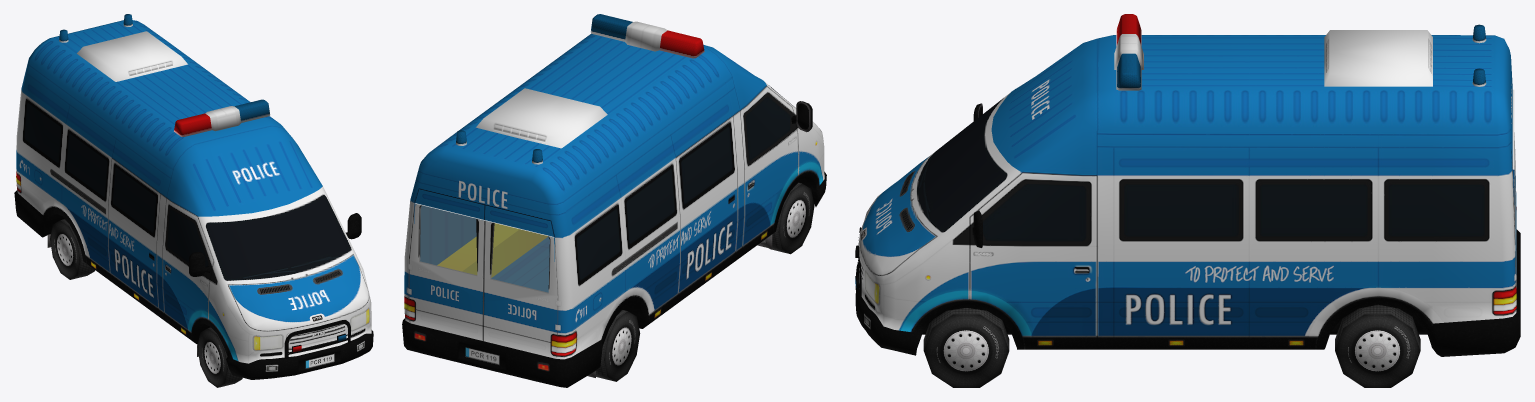
The model's file is police van.fbx.
3 renders of one model, left to right at view 1: azimuth 30°, elevation 25°; view 2: azimuth 150°, elevation 25°; view 3: azimuth 270°, elevation 25°, orthographic. The views are drawn at different scales.
Parts seen in each view (by area): view 1: polySurface7, RC Police Minibus V01 Tyre RR LOW, RC Police Minibus V01 Tyre FR LOW; view 2: polySurface7, polySurface9, polySurface8, RC Police Minibus V01 Tyre RR LOW, RC Police Minibus V01 Tyre FR LOW; view 3: polySurface7, RC Police Minibus V01 Tyre RL LOW, RC Police Minibus V01 Tyre FL LOW.
Part boxes in pixels (<box>): polySurface7: <box>14,14,373,379</box>; RC Police Minibus V01 Tyre RR LOW: <box>50,219,94,279</box>; RC Police Minibus V01 Tyre FR LOW: <box>197,327,242,387</box>; polySurface7: <box>402,14,826,387</box>; polySurface9: <box>409,204,484,340</box>; polySurface8: <box>483,221,557,358</box>; RC Police Minibus V01 Tyre RR LOW: <box>596,310,640,381</box>; RC Police Minibus V01 Tyre FR LOW: <box>769,182,814,254</box>; polySurface7: <box>855,14,1520,356</box>; RC Police Minibus V01 Tyre RL LOW: <box>1335,304,1420,387</box>; RC Police Minibus V01 Tyre FL LOW: <box>923,308,1009,387</box>.
Bounding box in the file's own units: 225 × 269 × 543.
